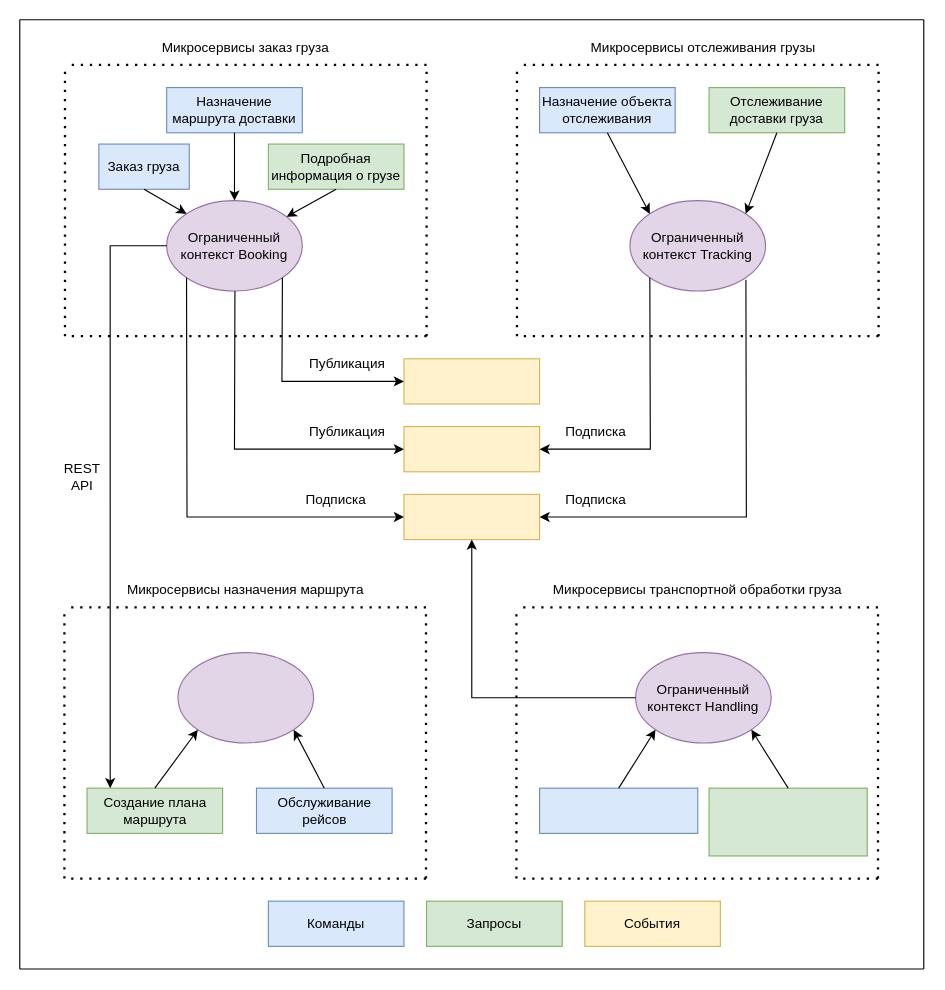
Some shapes in this 945 by 990 pixel diagram are drawn without their labels. The box of each missing label's shape, as (x1, y1, x2, y2) in pixels:
Груз заказан: (403, 358, 540, 404)
Груз направлен по маршруту: (403, 425, 540, 472)
Груз обрабатывается: (403, 493, 540, 540)
Ограниченный контекст Routing: (177, 651, 314, 743)
Подробная инофрмация о хронологии операций транспортной обработки: (708, 787, 867, 856)
Регистрация операции транспортной обработки: (538, 787, 698, 833)
